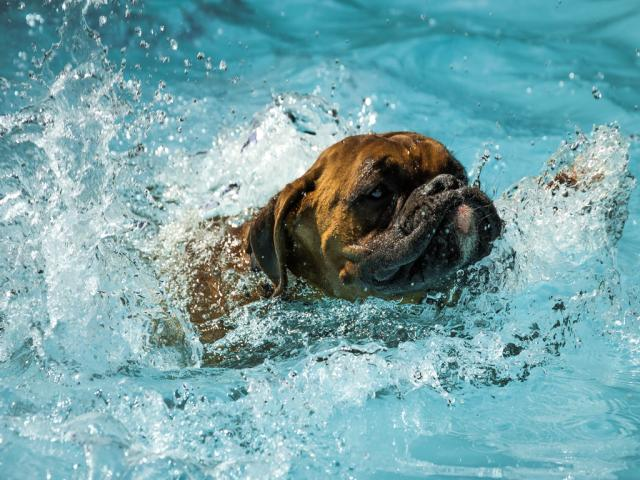Dog: (182, 130, 504, 343)
